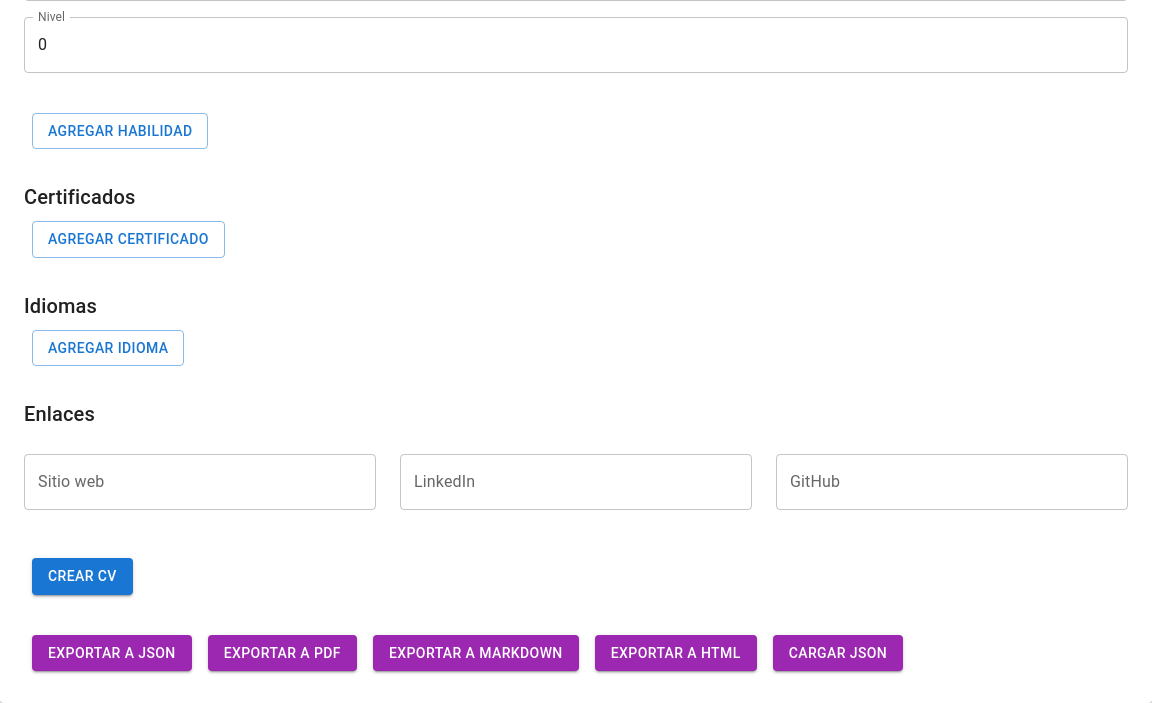
Test case: CVForm › adds language fields
(page scrolled)
Click the button "Agregar Idioma".
click(108, 348)  # box [32, 330, 184, 366]
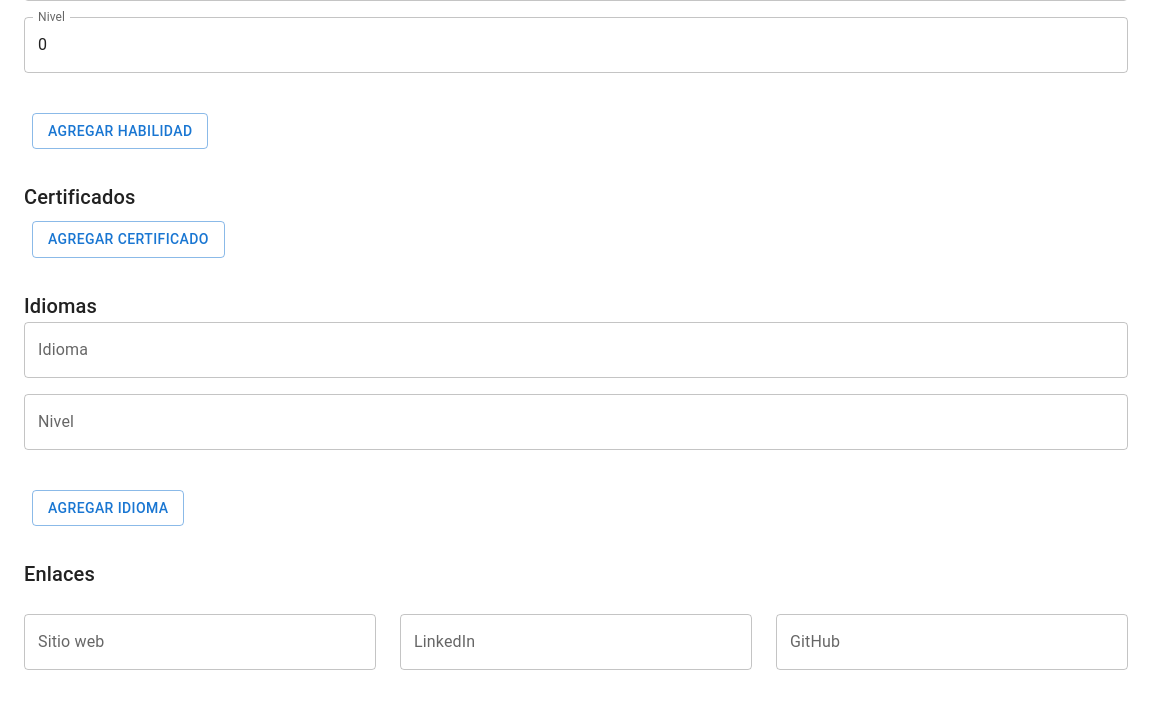
Result: the number of fields labelled "Idioma" is 1 at [24, 322, 1128, 378]
